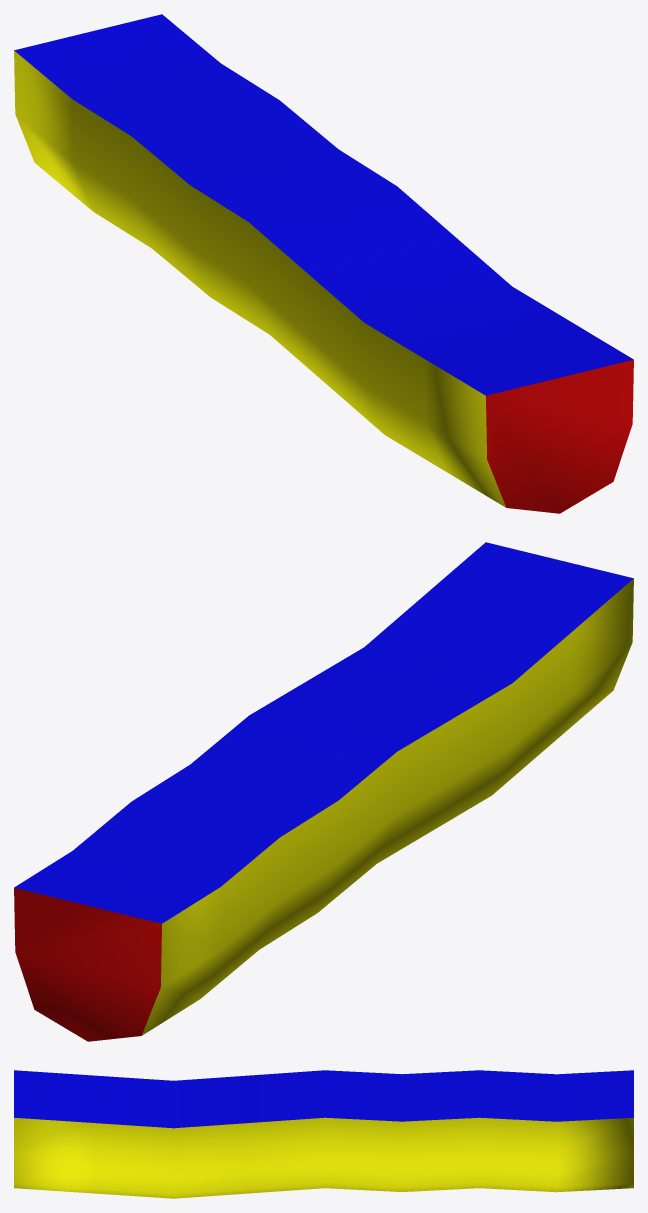
The picture shows the model from 3 angles, top to bottom: view 1: azimuth 30°, elevation 25°; view 2: azimuth 150°, elevation 25°; view 3: azimuth 270°, elevation 25°; orthographic projection. The views are drawn at different scales.
Visible parts, largest first — view 1: polySurface112; view 2: polySurface112; view 3: polySurface112.
Part boxes in pixels (<box>): polySurface112: <box>14,14,633,513</box>; polySurface112: <box>14,542,633,1041</box>; polySurface112: <box>14,1070,633,1198</box>.
Size of the model in its own units: 23.58 by 23.13 by 130.
